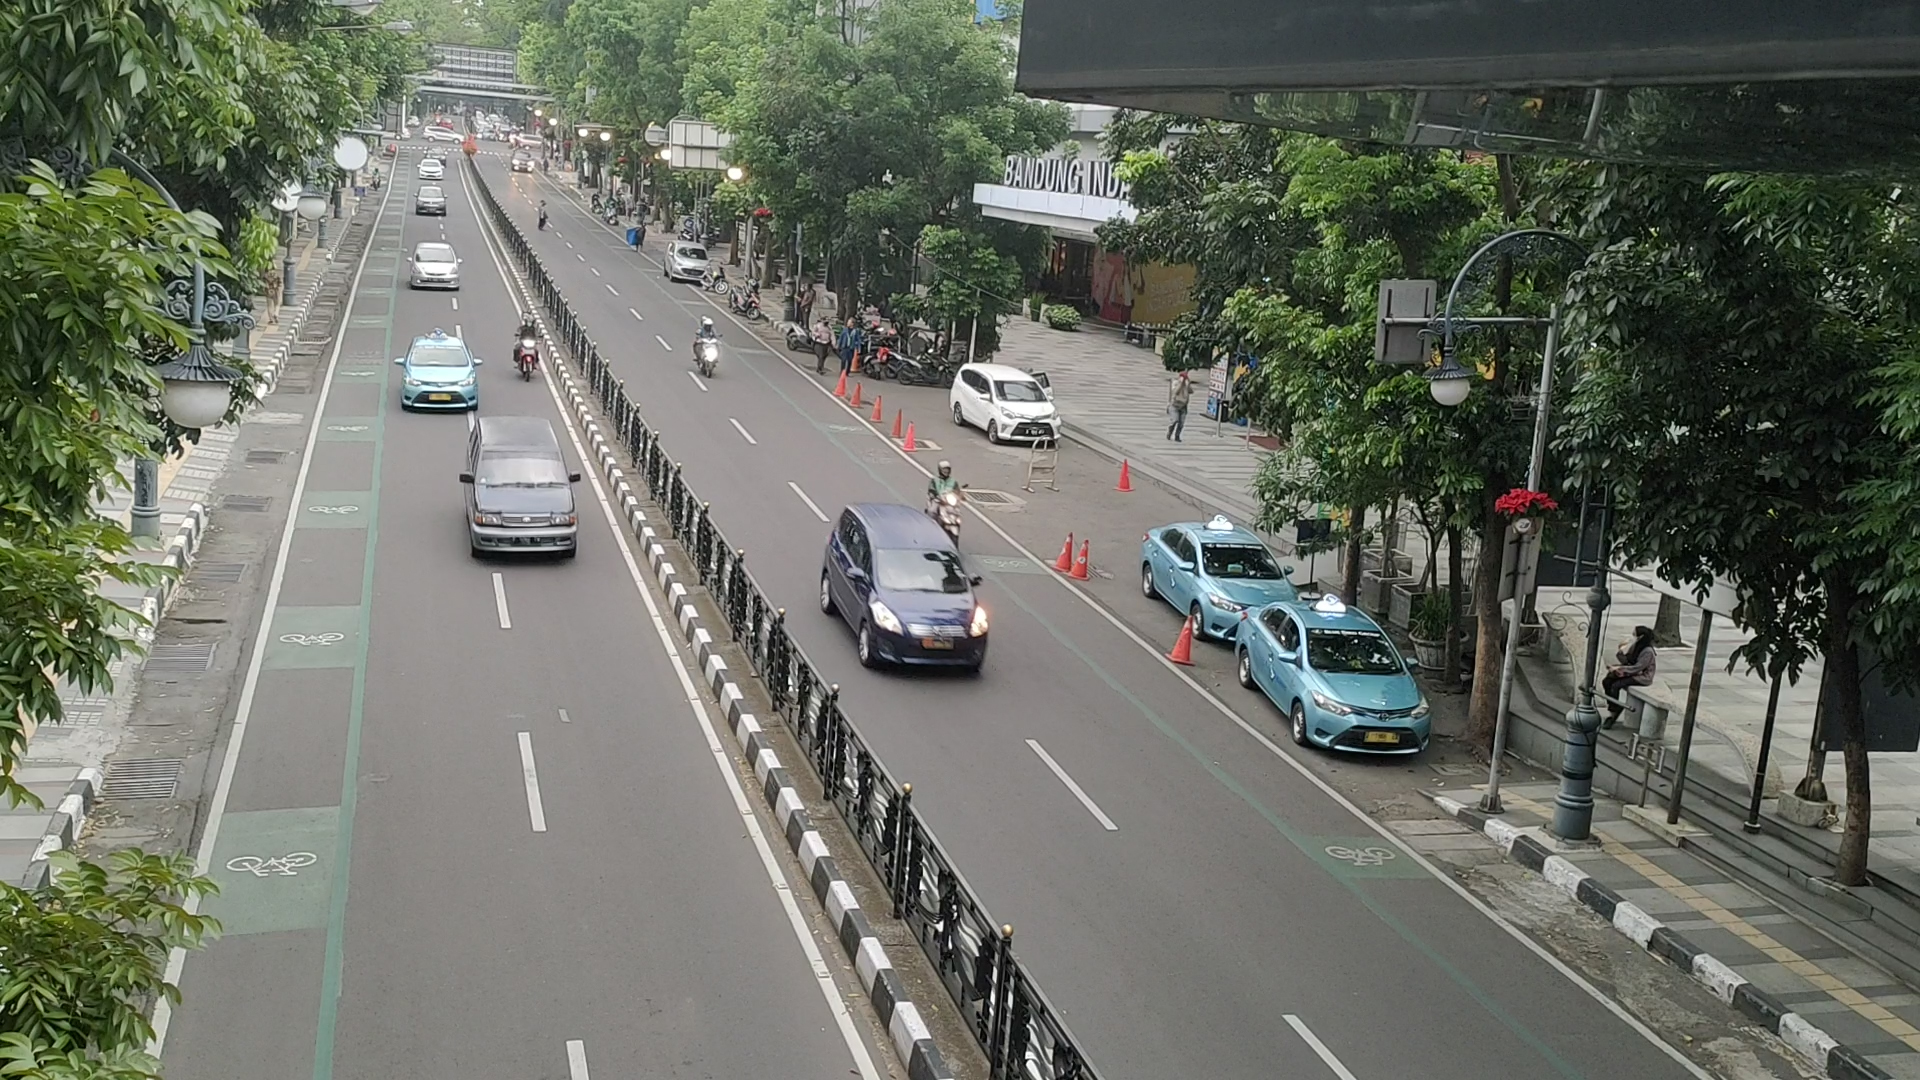mobil: (1292, 624, 1433, 761), (855, 542, 988, 679), (463, 447, 579, 564), (982, 376, 1063, 450), (397, 340, 477, 413)
motor: (920, 455, 978, 564), (691, 316, 725, 382), (513, 311, 545, 382)
